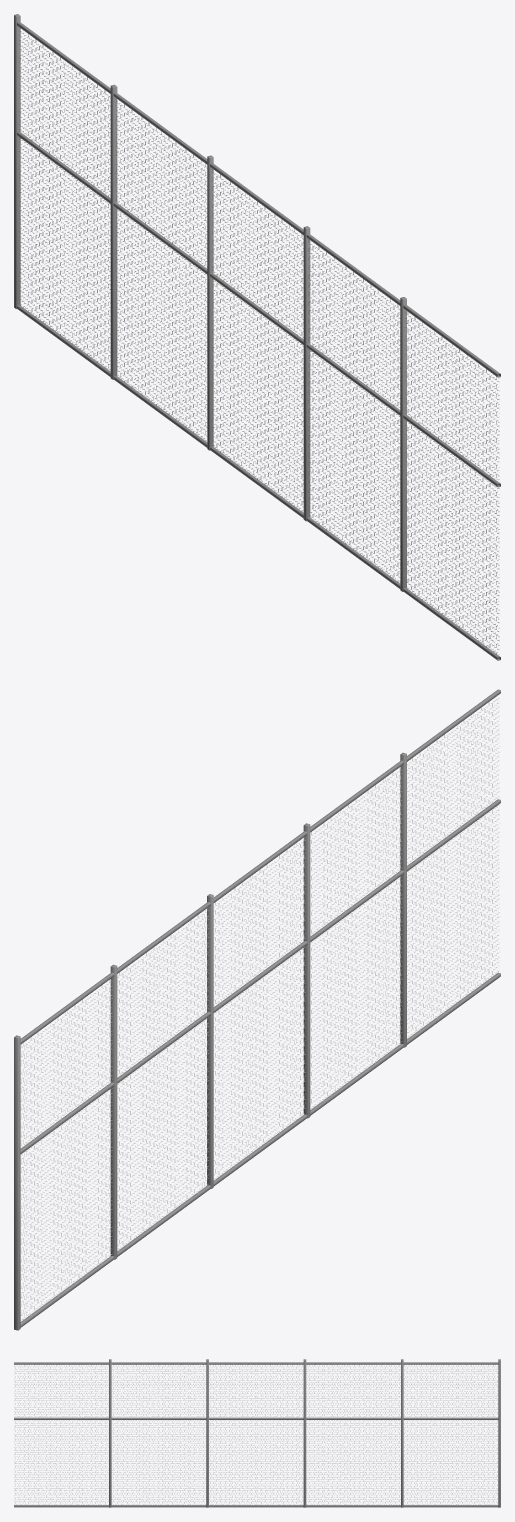
Rendered from FenceMetal01_1.FBX.
3 views of the same model, one above another, from view 1: azimuth 30°, elevation 25°; view 2: azimuth 150°, elevation 25°; view 3: azimuth 270°, elevation 25° (orthographic). The views are drawn at different scales.
Parts seen in each view (by area): view 1: fence, FenceMetal01; view 2: fence, FenceMetal01; view 3: fence, FenceMetal01.
Boxes of the visible parts, x1,y1,x2,y2 form: fence: (18,28,499,658); FenceMetal01: (14,14,500,660); fence: (20,696,499,1322); FenceMetal01: (14,689,500,1330); fence: (14,1364,497,1505); FenceMetal01: (14,1359,500,1507).
Size of the model in its own units: 1.33 by 81.94 by 245.
